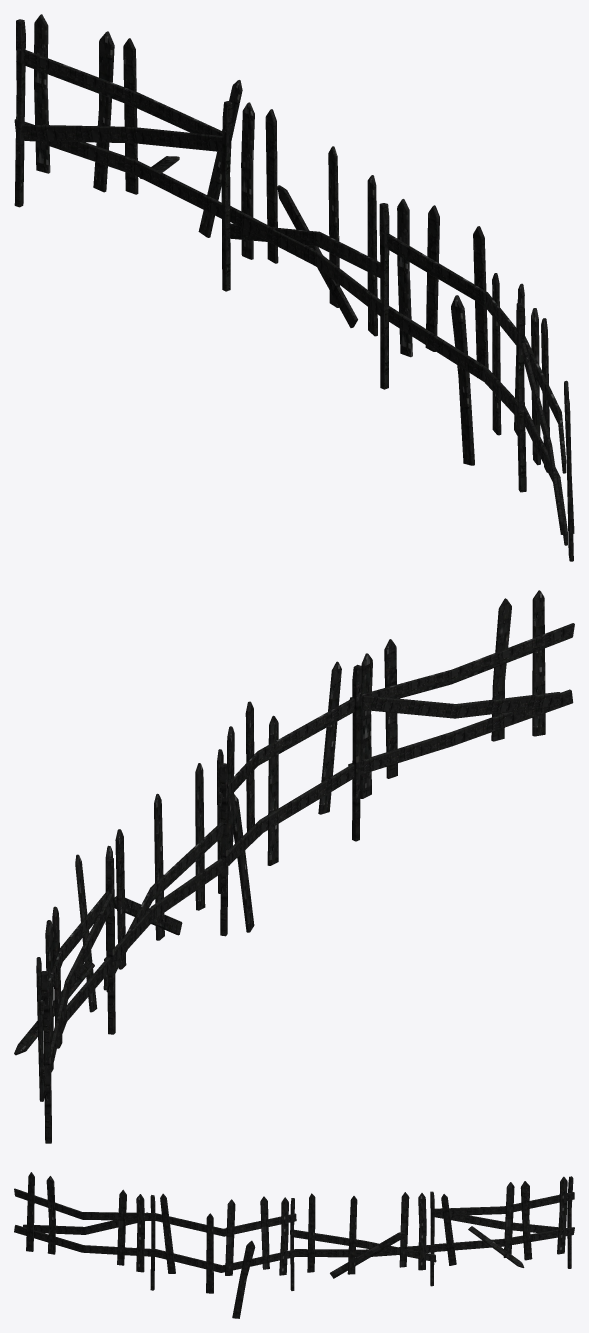
Rendered from 1_BURNT_01_4-transformed.glb.
3 views of the same model, one above another, from view 1: azimuth 30°, elevation 25°; view 2: azimuth 150°, elevation 25°; view 3: azimuth 270°, elevation 25° (orthographic). The views are drawn at different scales.
Visible parts, largest first — view 1: default; view 2: default; view 3: default.
Part boxes in pixels (x1,y1,x2,y2): default: (14, 14, 574, 561); default: (14, 590, 574, 1143); default: (14, 1172, 574, 1318).
Size of the model in its own units: 1.11 by 1.87 by 7.87.
1 material, 1 textured.
